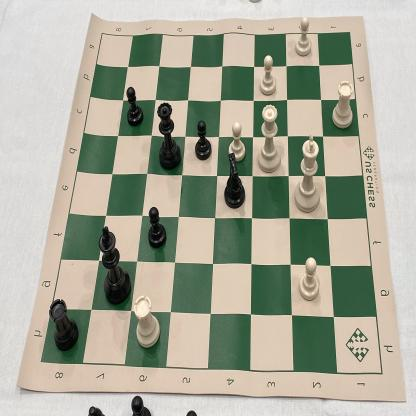black-knight: (221, 152, 247, 210)
black-pawn: (146, 205, 167, 247), (125, 85, 145, 127), (195, 120, 213, 162)
black-queen: (156, 99, 182, 170)
black-rook: (48, 296, 78, 353)
white-bishop: (100, 224, 130, 306)
white-king: (294, 133, 322, 215)
white-pawn: (298, 254, 322, 303), (294, 16, 312, 58), (228, 121, 246, 162)
white-queen: (255, 103, 282, 173)
white-rook: (134, 293, 162, 349), (330, 78, 356, 130), (258, 53, 279, 98)
